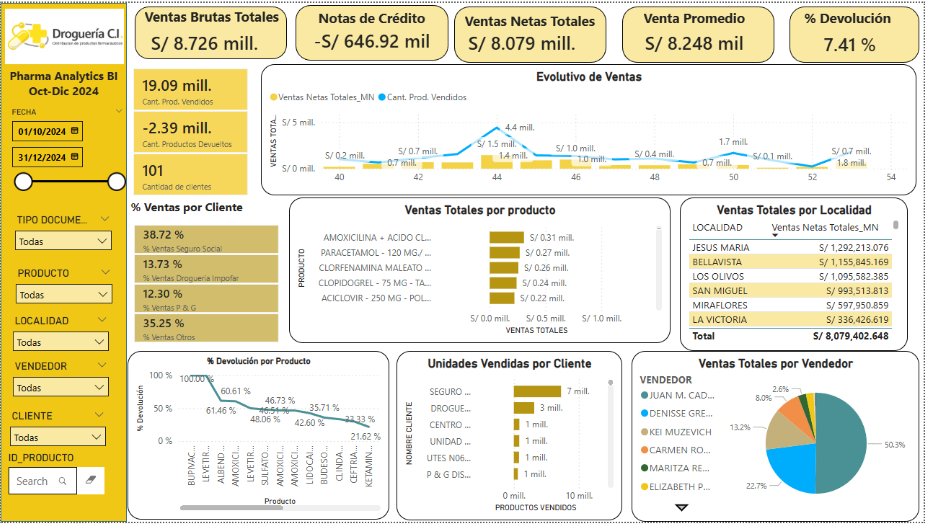

What the dashboard file says about the page in this screenshot:
{"tool":"powerbi","page":{"name":"Página 1","canvas":[1280,720],"ordinal":0},"visuals":[{"type":"cardVisual","title":"Ventas Totales","fields":{"Data":["_Medidas.Ventas Totales_MN","_Medidas.Cant. Prod. Vendidos","_Medidas.Cantidad de clientes","_Medidas.Cantidad de productos","_Medidas.Cantidad de vendedores"]},"box":[185.4,8.1,218.7,240.9],"z":0},{"type":"shape","box":[0,0,185,720],"z":1000},{"type":"slicer","fields":{"Values":["Dim_PRODUCTOS.DESCRIPCIÓN DE PRODUCTO"]},"box":[11.1,195.5,153.2,67.5],"z":2000},{"type":"slicer","fields":{"Values":["Dim_LOCALIDAD.LOCALIDAD"]},"box":[11.1,263.1,153.2,62.5],"z":3000},{"type":"slicer","fields":{"Values":["Dim_CLIENTES.NOMBRE CLIENTE"]},"box":[11.1,402.1,153.2,62.5],"z":4000},{"type":"textFilter25A4896A83E0487089E2B90C9AE57C8A","fields":{"field":["Dim_PRODUCTOS.ID_PRODUCTO"]},"box":[16.1,481.8,143.1,74.6],"z":7000},{"type":"tableEx","title":"Ventas Totales por Localidad","fields":{"Values":["Dim_LOCALIDAD.LOCALIDAD","_Medidas.Ventas Totales_MN"]},"box":[768,503.9,507,204.6],"z":8000},{"type":"lineStackedColumnComboChart","title":"Evolutivo de Ventas","fields":{"Category":["CALENDARIO.Anho","CALENDARIO.Mes","CALENDARIO.Semana"],"Y2":["_Medidas.Cant. Prod. Vendidos con NCR"],"Y":["_Medidas.Ventas Totales_MN"]},"box":[404.2,8.1,870.8,255],"z":9000},{"type":"pieChart","title":"Ventas Totales por Vendedor","fields":{"Y":["_Medidas.Ventas Totales_MN"],"Category":["Dim_VENDEDOR.VENDEDOR"]},"box":[192.5,503.9,561.4,204.6],"z":10000},{"type":"slicer","fields":{"Values":["CALENDARIO.Date"]},"box":[0,59.5,178.4,123],"z":11000},{"type":"clusteredBarChart","title":"Ventas Totales por producto","fields":{"Category":["Dim_PRODUCTOS.DESCRIPCIÓN DE PRODUCTO"],"Y":["_Medidas.Ventas Totales_MN"]},"box":[768,276.2,507,219.7],"z":12000},{"type":"clusteredBarChart","title":"Productos Vendidos por Cliente","fields":{"Category":["Dim_CLIENTES.NOMBRE CLIENTE"],"Y":["_Medidas.Cant. Prod. Vendidos"]},"box":[404.2,276.2,349.7,219.7],"z":13000},{"type":"cardVisual","fields":{"Data":["_Medidas.% VENTAS_SEGURO SOCIAL","_Medidas.% VENTAS_DROGUERIA_IMPOFAR","_Medidas.% VENTAS_PYG","_Medidas.% VENTAS_OTROS"]},"box":[185.4,238.9,203.6,257],"z":14000},{"type":"slicer","fields":{"Values":["Dim_VENDEDOR.VENDEDOR"]},"box":[11.1,333.6,153.2,68.5],"z":15000},{"type":"textbox","box":[10.1,8.1,175.4,51.4],"z":16000}]}

Visuals, with their boxes in screenshot pixels (x1, y1, x2, y2), scaled from the page's 1280x720 canvas onto the 932x524 screenshot:
"Ventas Totales" cardVisual: 135 6 294 181
shape: 0 0 135 523
slicer - Dim_PRODUCTOS.DESCRIPCIÓN DE PRODUCTO: 8 142 120 191
slicer - Dim_LOCALIDAD.LOCALIDAD: 8 191 120 237
slicer - Dim_CLIENTES.NOMBRE CLIENTE: 8 293 120 338
textFilter25A4896A83E0487089E2B90C9AE57C8A - Dim_PRODUCTOS.ID_PRODUCTO: 12 351 116 405
"Ventas Totales por Localidad" tableEx: 559 367 928 516
"Evolutivo de Ventas" lineStackedColumnComboChart: 294 6 928 191
"Ventas Totales por Vendedor" pieChart: 140 367 549 516
slicer - CALENDARIO.Date: 0 43 130 133
"Ventas Totales por producto" clusteredBarChart: 559 201 928 361
"Productos Vendidos por Cliente" clusteredBarChart: 294 201 549 361
cardVisual - _Medidas.% VENTAS_SEGURO SOCIAL x _Medidas.% VENTAS_DROGUERIA_IMPOFAR: 135 174 283 361
slicer - Dim_VENDEDOR.VENDEDOR: 8 243 120 293
textbox: 7 6 135 43
